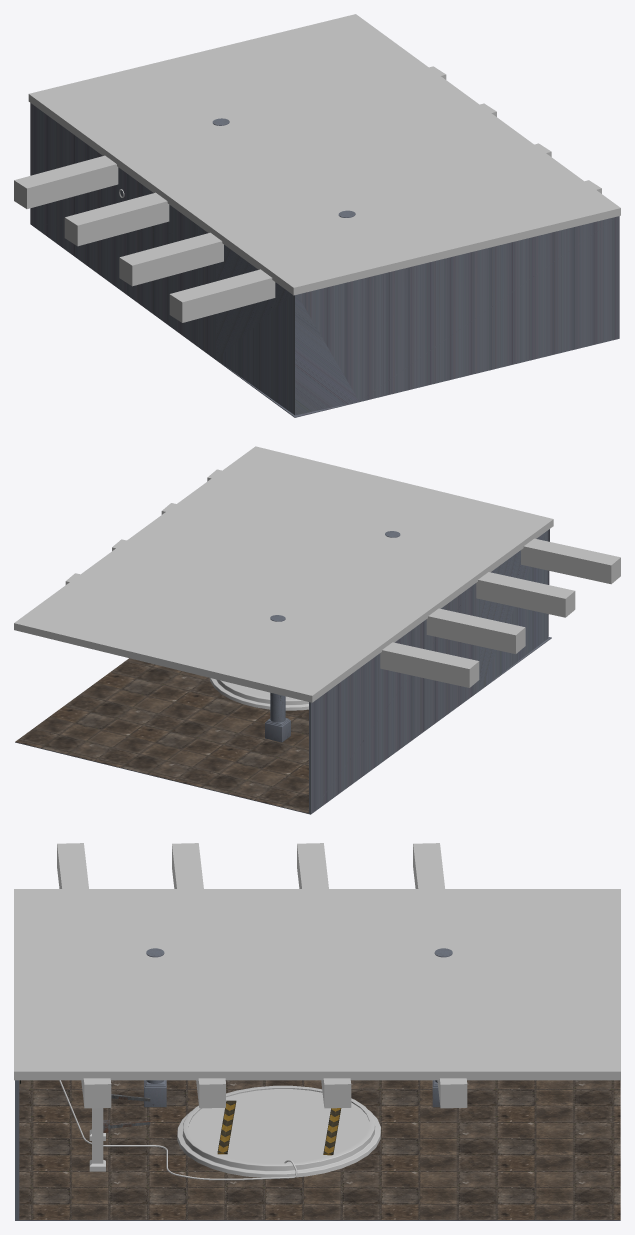
Rendered from car-garage.fbx.
3 views of the same model, one above another, from view 1: azimuth 30°, elevation 25°; view 2: azimuth 150°, elevation 25°; view 3: azimuth 270°, elevation 25° (orthographic). The views are drawn at different scales.
Parts seen in each view (by area): view 1: Cube.002, Cube; view 2: Cube.002, Cube, Cylinder, Cylinder.001; view 3: Cube.002, Cube, Cylinder.003, Cylinder, Cube.008, Cylinder.002, Vert.
Boxes of the visible parts, x1,y1,x2,y2 form: Cube.002: (14, 14, 620, 322); Cube: (30, 103, 619, 417); Cube.002: (14, 446, 620, 702); Cube: (15, 529, 551, 814); Cylinder: (209, 678, 308, 710); Cylinder.001: (265, 615, 290, 742); Cube.002: (14, 843, 620, 1108); Cube: (15, 1080, 620, 1220); Cylinder.003: (188, 1089, 369, 1163); Cylinder: (177, 1085, 380, 1177); Cube.008: (89, 1094, 150, 1171); Cylinder.002: (144, 948, 166, 1107); Vert: (59, 1080, 297, 1180).
Size of the model in its own units: 3518 by 1097 by 3734.
